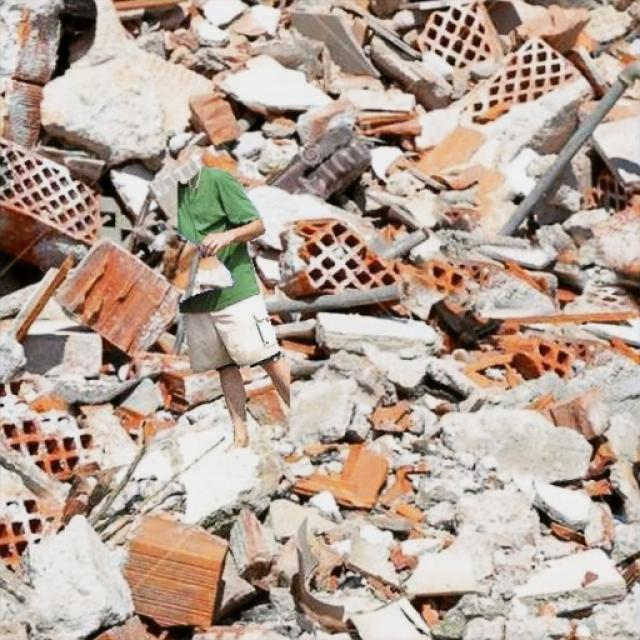Person in Rubble: (178, 166, 288, 454)
